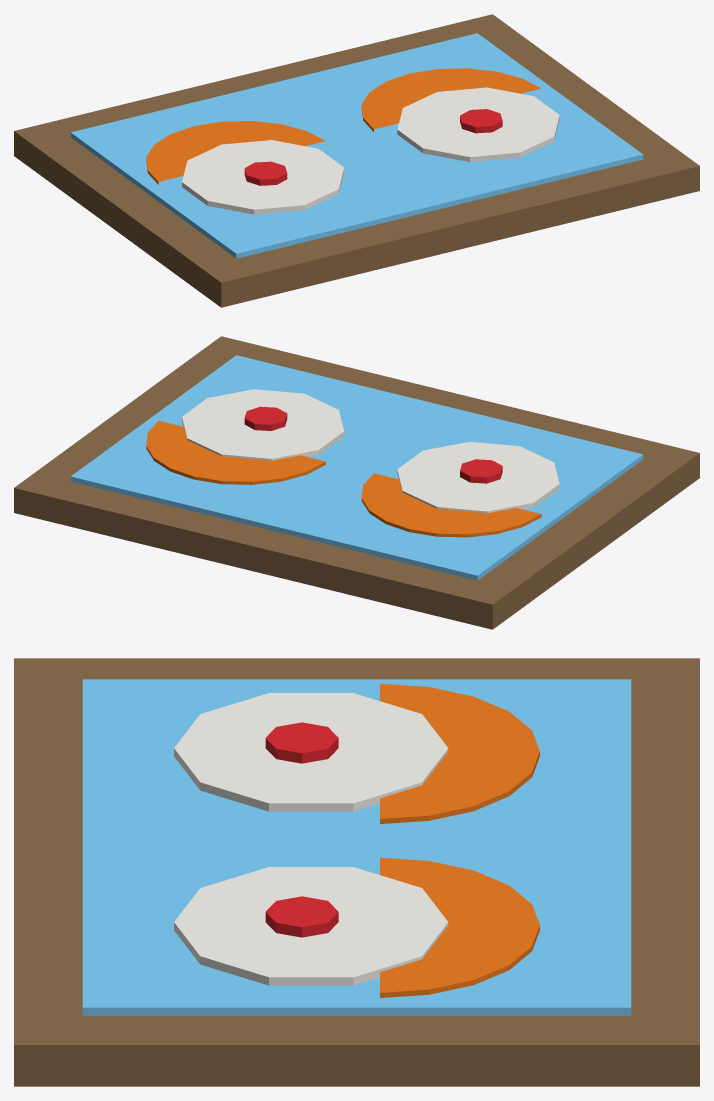
File: twin_clowns_photo.glb
The picture shows the model from 3 angles, top to bottom: view 1: azimuth 30°, elevation 25°; view 2: azimuth 150°, elevation 25°; view 3: azimuth 270°, elevation 25°; orthographic projection. The views are drawn at different scales.
Parts seen in each view (by area): view 1: frame_twin_frame, picture_twin_picture, faces_white, wigs_twin_wig (×2), noses_twin_nose (×2); view 2: frame_twin_frame, picture_twin_picture, faces_white, wigs_twin_wig (×2), noses_twin_nose (×2); view 3: frame_twin_frame, picture_twin_picture, faces_white, wigs_twin_wig (×2), noses_twin_nose (×2).
Boxes of the visible parts, x1,y1,x2,y2 form: frame_twin_frame: [14, 14, 699, 307]; picture_twin_picture: [70, 33, 643, 258]; faces_white: [182, 87, 559, 214]; wigs_twin_wig (×2): [146, 68, 540, 184]; noses_twin_nose (×2): [244, 109, 502, 185]; frame_twin_frame: [14, 336, 699, 629]; picture_twin_picture: [70, 355, 643, 580]; faces_white: [182, 389, 559, 513]; wigs_twin_wig (×2): [146, 420, 541, 537]; noses_twin_nose (×2): [244, 406, 502, 483]; frame_twin_frame: [14, 658, 699, 1086]; picture_twin_picture: [82, 679, 631, 1015]; faces_white: [174, 693, 448, 985]; wigs_twin_wig (×2): [380, 683, 539, 997]; noses_twin_nose (×2): [265, 722, 338, 937].
Size of the model in its own units: 0.2 by 0.0165 by 0.15.
